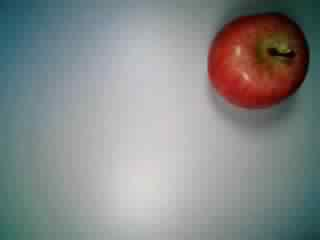apple: (209, 11, 313, 112)
